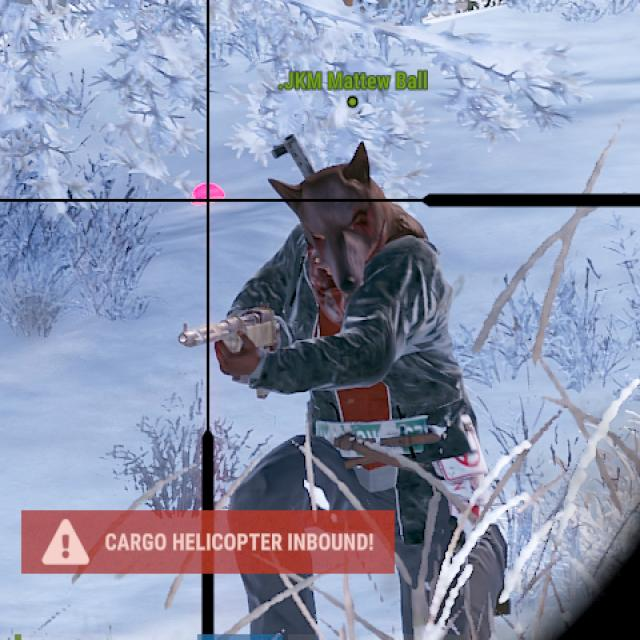Player: (210, 155, 483, 508)
